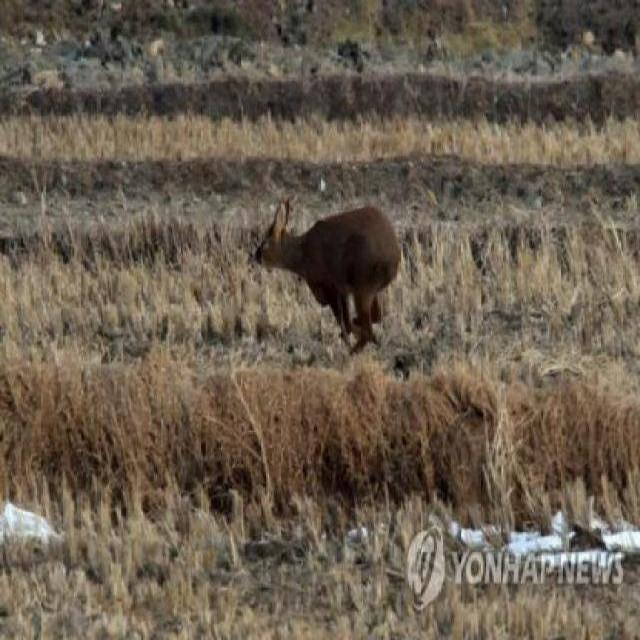deer: (248, 188, 407, 367)
